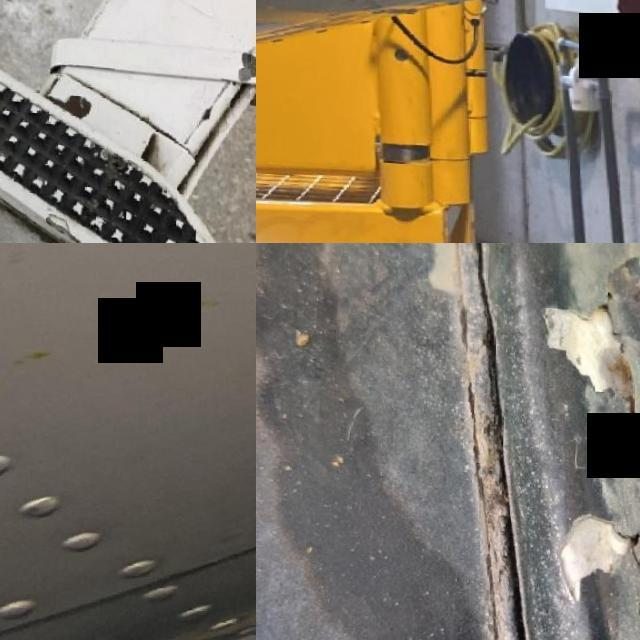Crack: (522, 243, 640, 640), (177, 243, 256, 574), (211, 27, 256, 126), (44, 63, 104, 114), (45, 205, 78, 242)
